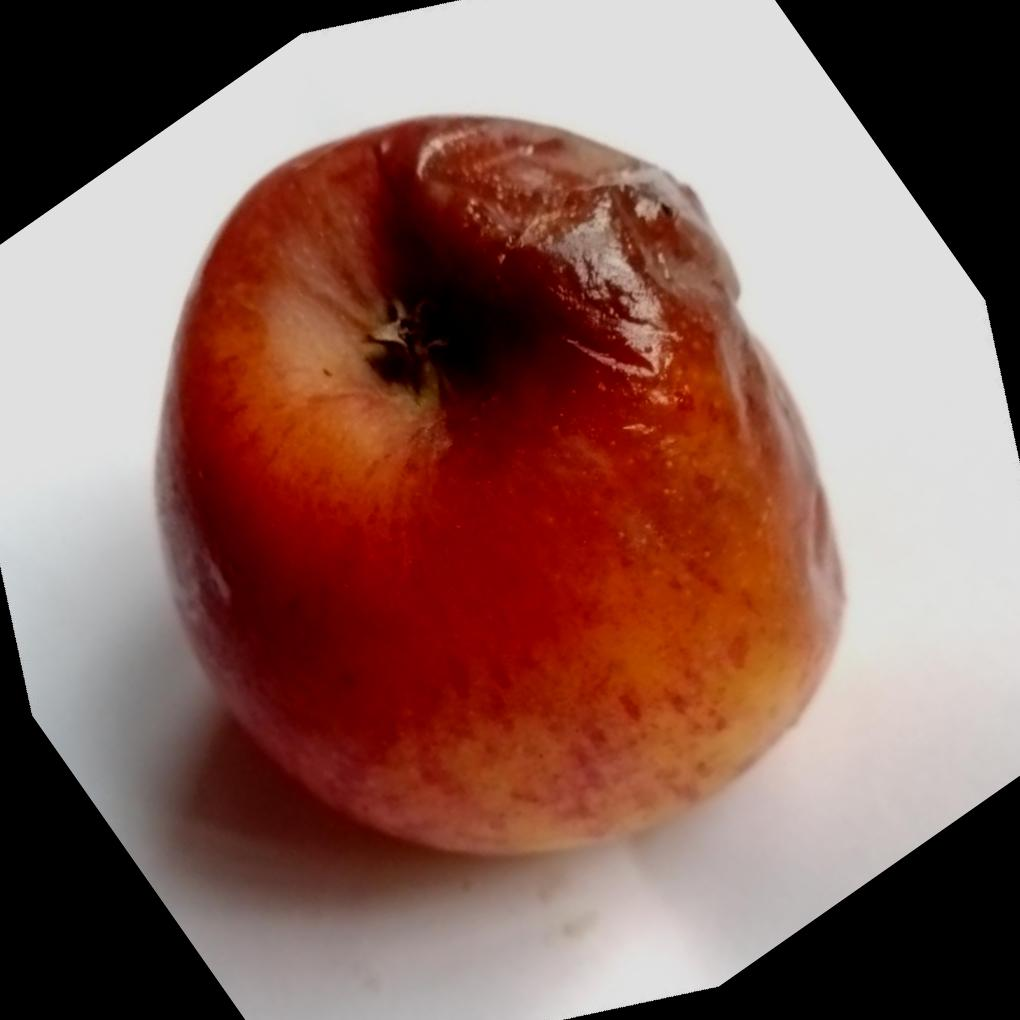FreshOrange: (150, 113, 846, 861)
